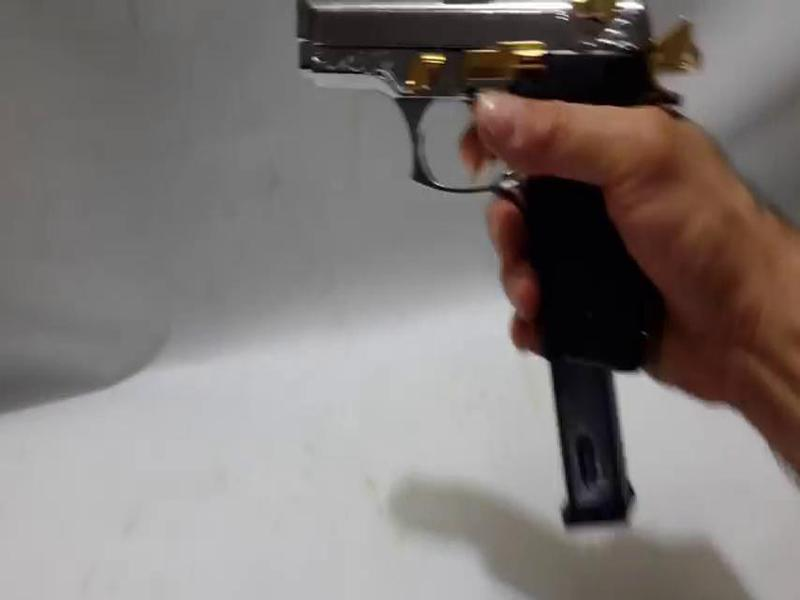Pistola: (255, 1, 677, 368)
